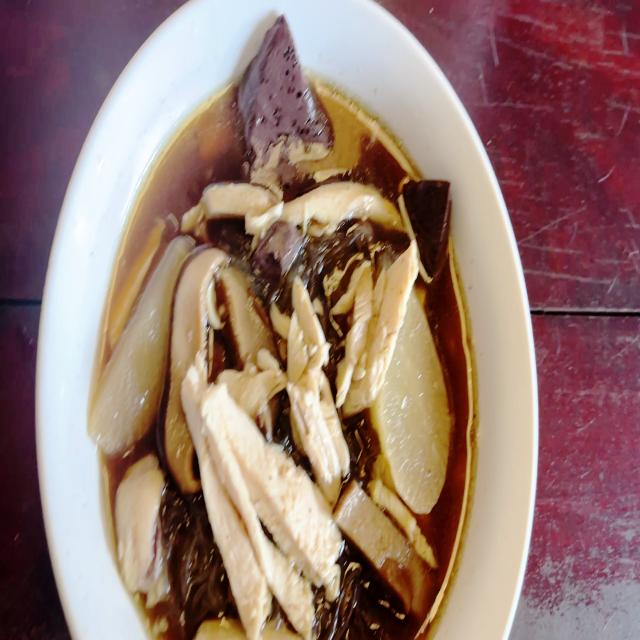boiled_chicken_blood_jelly: (242, 18, 322, 160), (397, 173, 447, 270), (260, 228, 298, 274)
chicken_shredded: (181, 367, 336, 618), (339, 244, 419, 403), (289, 282, 343, 486), (278, 176, 398, 230), (114, 461, 165, 581), (196, 182, 282, 222)
daikon_radish: (88, 228, 175, 449), (384, 313, 444, 522)
noodle: (98, 70, 473, 640)
